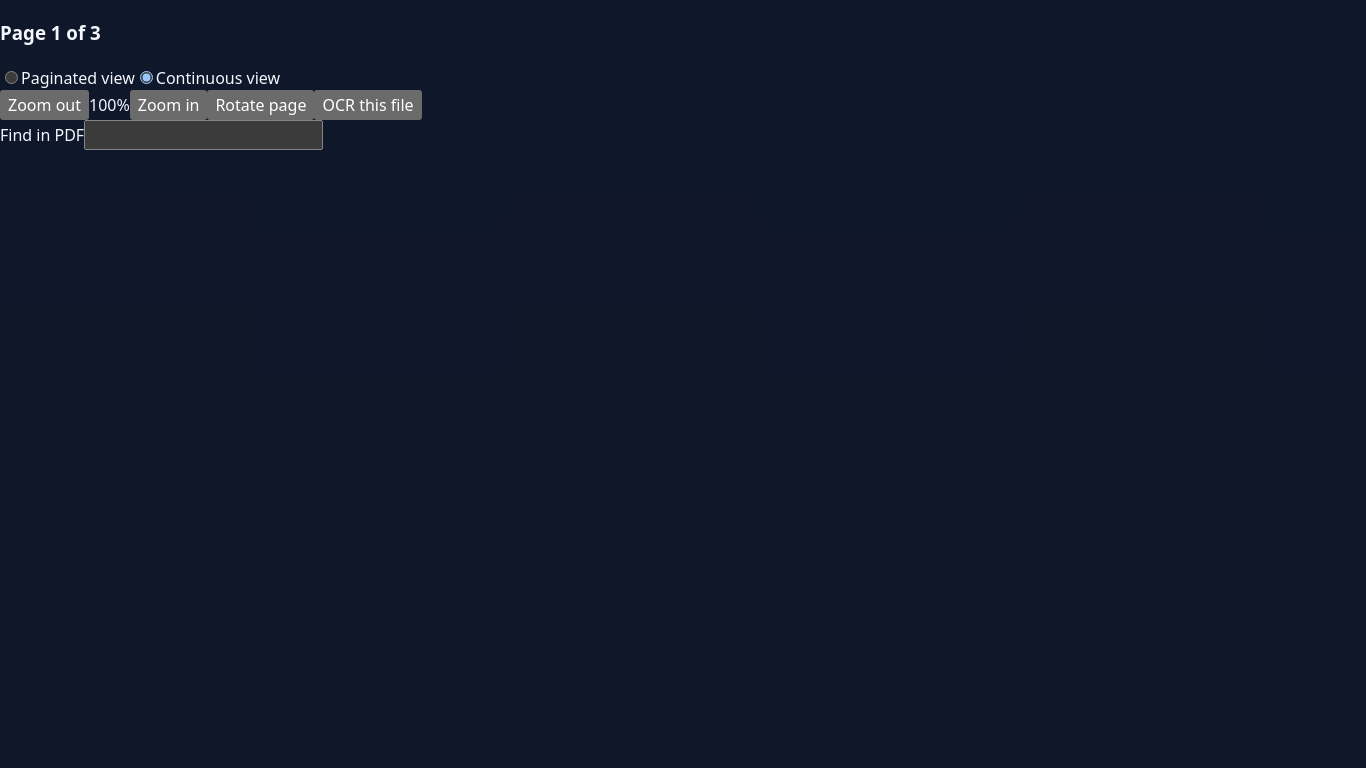
Test: PDF bookmarks in the reader › reads the current page and spot from the focused block
Check: the heading "Page 1 of 3" is shown, box [0,20,101,45]
What coordinates should you click on to do the following:
click the radio button labelled "Paginated view"
I would click on:
 (12, 77)
Its box is [5,70,18,84].
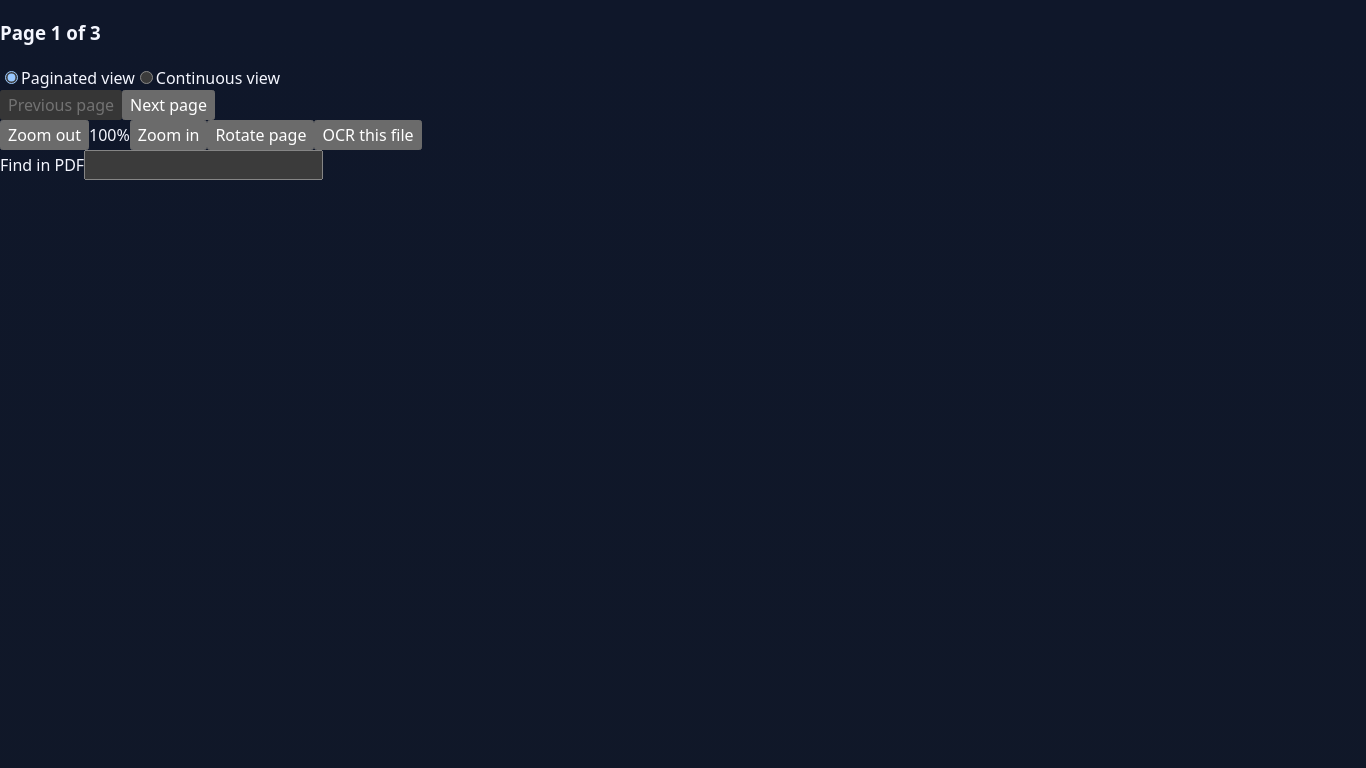
Check: the radio button labelled "Paginated view" is checked, box [5,70,18,84]
What coordinates should you click on to do the following:
click the button "Next page"
I would click on:
 (168, 104)
Its box is [122,90,215,120].
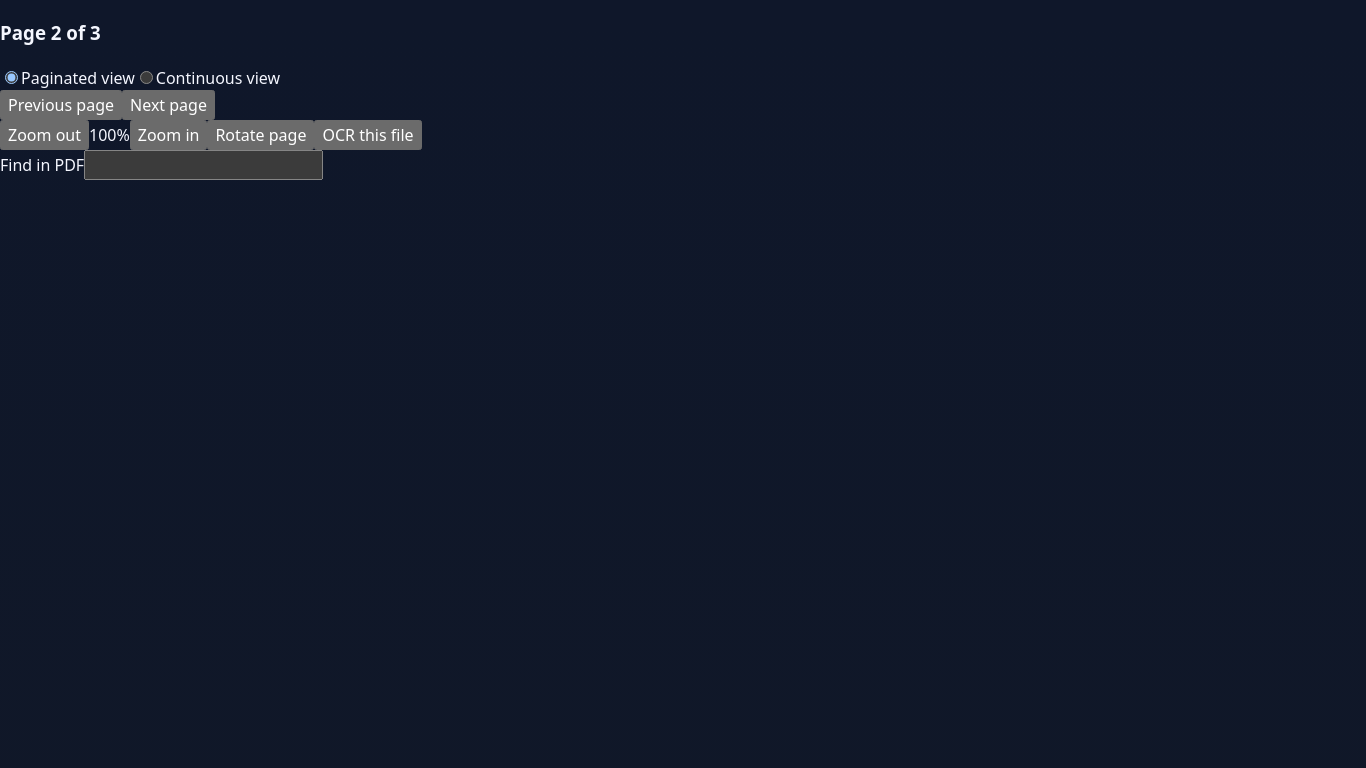
Check: the heading "Page 2 of 3" is shown, box [0,20,101,45]
